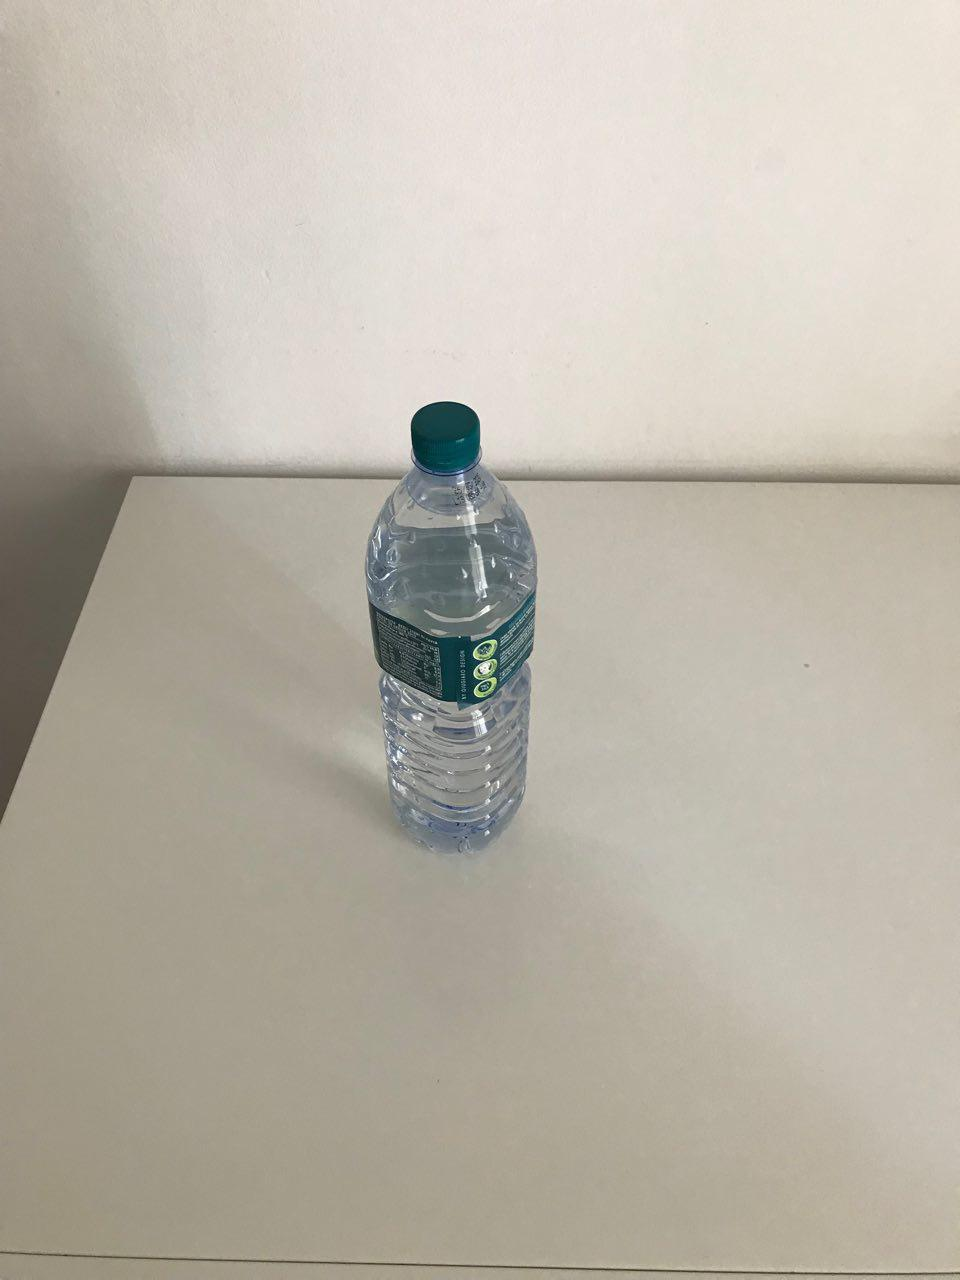san_bernardo: (362, 399, 541, 857)
